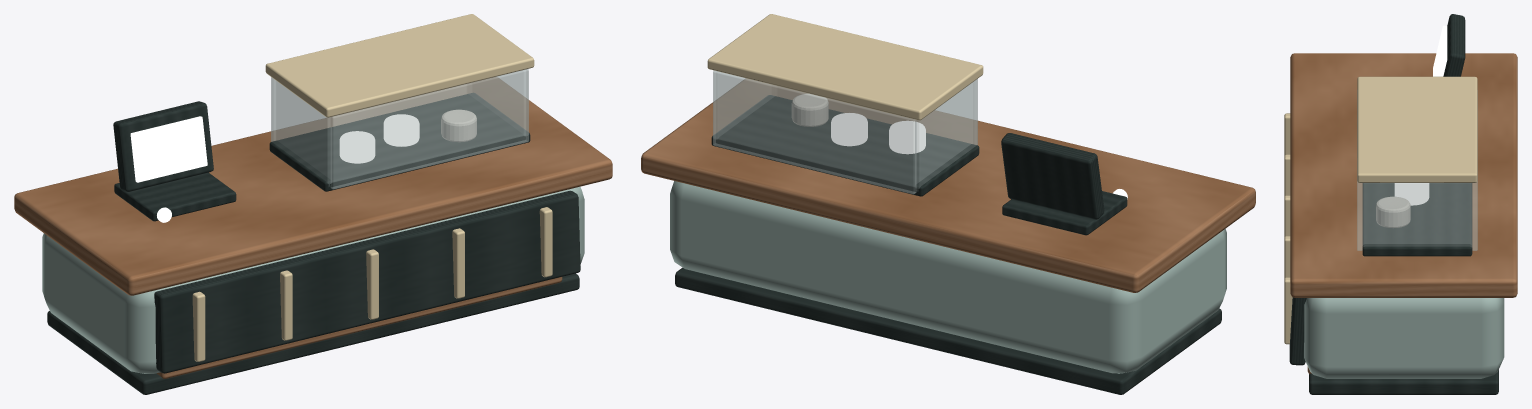
Rendered from shop-counter.glb.
3 views of the same model, side by side, from view 1: azimuth 30°, elevation 25°; view 2: azimuth 150°, elevation 25°; view 3: azimuth 270°, elevation 25° (orthographic). The views are drawn at different scales.
Visible parts, largest first — view 1: Shop_Counter_Top, Shop_Counter_Front, Shop_Display_Top, Shop_Display_GlassFront, Shop_Display_Base, Shop_Counter_Body, Shop_Counter_Plinth, Shop_Display_End_-0.04, Shop_Register_Display, Shop_Display_GlassBack, Shop_Register_Screen, Shop_Register_Base (+10 smaller); view 2: Shop_Counter_Body, Shop_Counter_Top, Shop_Display_Top, Shop_Display_GlassBack, Shop_Display_Base, Shop_Counter_Plinth, Shop_Register_Screen, Shop_Display_End_-0.04, Shop_Display_GlassFront, Shop_Display_End_1.6, Shop_Register_Base, Shop_Display_Item_2 (+2 smaller); view 3: Shop_Counter_Top, Shop_Counter_Body, Shop_Display_Top, Shop_Display_End_1.6, Shop_Display_Base, Shop_Counter_Plinth, Shop_Register_Screen, Shop_Display_Item_3, Shop_Counter_Front, Shop_Display_Item_2, Shop_Register_Display, Shop_Counter_Rib_1.45 (+6 smaller).
Boxes of the visible parts, <box> form: Shop_Counter_Top: <box>14,77,612,295</box>; Shop_Counter_Front: <box>154,190,580,373</box>; Shop_Display_Top: <box>265,14,534,117</box>; Shop_Display_GlassFront: <box>331,69,528,189</box>; Shop_Display_Base: <box>269,93,530,191</box>; Shop_Counter_Body: <box>42,186,584,373</box>; Shop_Counter_Plinth: <box>47,273,579,394</box>; Shop_Display_End_-0.04: <box>271,77,331,186</box>; Shop_Register_Display: <box>130,116,207,182</box>; Shop_Display_GlassBack: <box>271,77,467,141</box>; Shop_Register_Screen: <box>113,101,213,191</box>; Shop_Register_Base: <box>114,172,236,221</box>; Shop_Counter_Body: <box>670,181,1226,373</box>; Shop_Counter_Top: <box>641,78,1255,292</box>; Shop_Display_Top: <box>707,14,983,120</box>; Shop_Display_GlassBack: <box>713,70,916,194</box>; Shop_Display_Base: <box>711,95,979,196</box>; Shop_Counter_Plinth: <box>675,267,1221,394</box>; Shop_Register_Screen: <box>1001,133,1104,219</box>; Shop_Display_End_-0.04: <box>915,79,977,191</box>; Shop_Display_GlassFront: <box>776,79,977,144</box>; Shop_Display_End_1.6: <box>713,70,774,139</box>; Shop_Register_Base: <box>1002,191,1127,235</box>; Shop_Display_Item_2: <box>831,113,867,146</box>; Shop_Counter_Top: <box>1290,53,1517,297</box>; Shop_Counter_Body: <box>1304,298,1504,378</box>; Shop_Display_Top: <box>1357,76,1477,182</box>; Shop_Display_End_1.6: <box>1363,183,1471,246</box>; Shop_Display_Base: <box>1362,183,1472,256</box>; Shop_Counter_Plinth: <box>1309,369,1498,394</box>; Shop_Register_Screen: <box>1443,14,1465,76</box>; Shop_Display_Item_3: <box>1376,196,1410,227</box>; Shop_Counter_Front: <box>1289,297,1306,365</box>; Shop_Display_Item_2: <box>1394,183,1429,205</box>; Shop_Register_Display: <box>1433,25,1447,76</box>; Shop_Counter_Rib_1.45: <box>1284,277,1292,344</box>.
Bounding box in the file's own units: 4.05 × 1.75 × 1.75.
10 materials, 5 textured.
